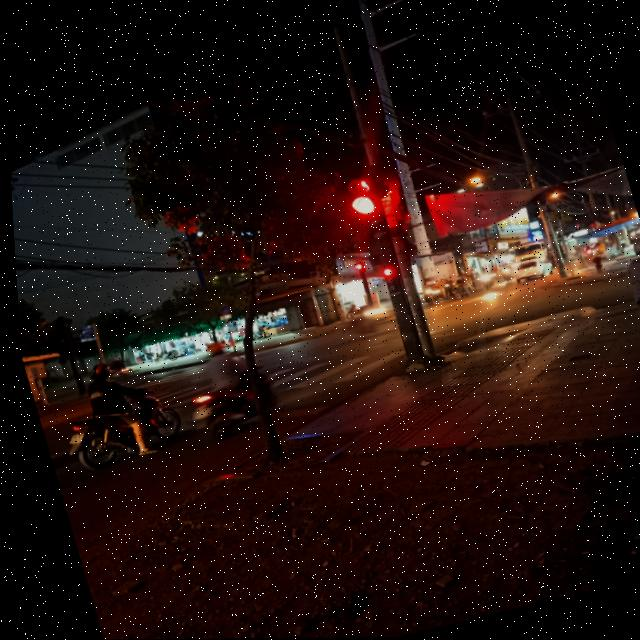Red: (341, 190, 392, 252), (373, 258, 402, 294)
